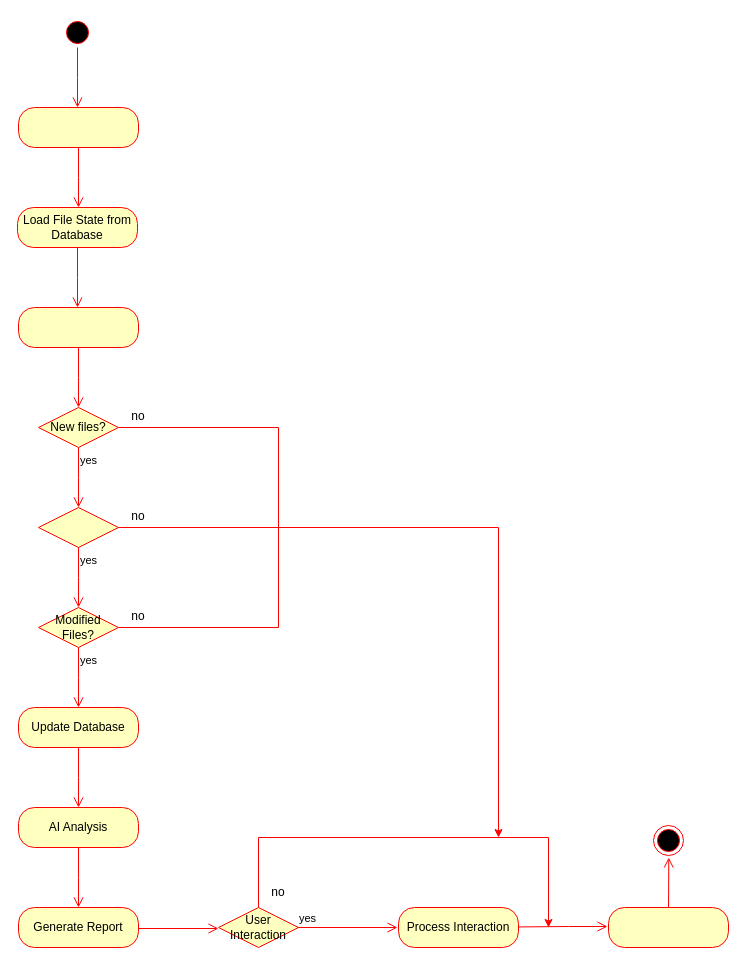
Some shapes in this 746 by 965 pixel diagram are drawn without their labels. Here are the shapes that lost their labels. From the top down, the centre of each, then its label:
At point (78, 127): "Initialize System".
At point (78, 327): "Scan".
At point (78, 527): "Deleted Files??".
At point (668, 927): "Save Log".
